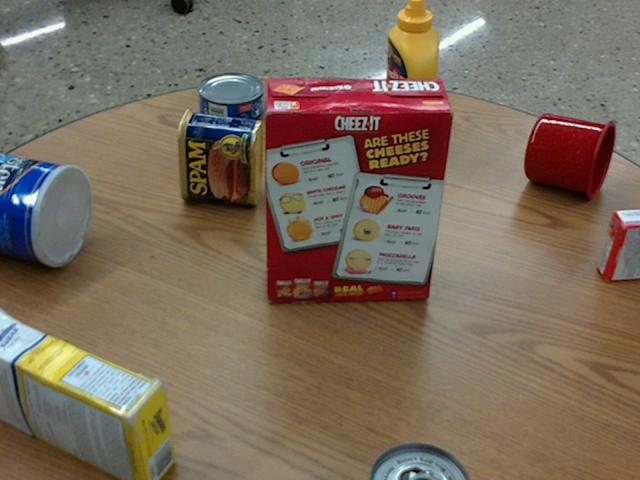cracker_box: (263, 77, 454, 300)
gelatin_box: (598, 212, 639, 283)
master_chef_can: (0, 152, 94, 265)
mug: (525, 113, 614, 199)
mustard_bottle: (382, 0, 438, 159)
potted_meat_can: (178, 107, 263, 202)
sugar_box: (0, 310, 175, 479)
tomato_soup_can: (370, 441, 471, 479)
tuna_fish_can: (199, 70, 265, 124)
